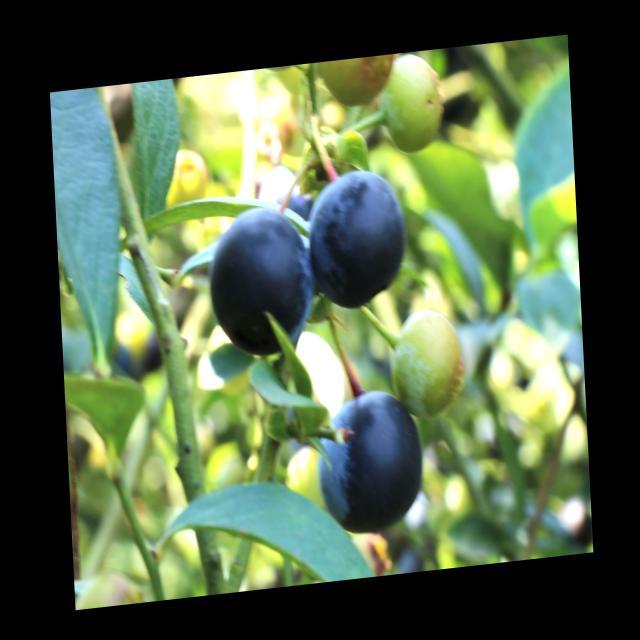blueberry: (204, 200, 317, 367), (314, 383, 424, 542), (304, 163, 404, 310)
blueberry-unripe: (388, 308, 465, 424), (379, 52, 449, 158), (318, 54, 398, 110)
